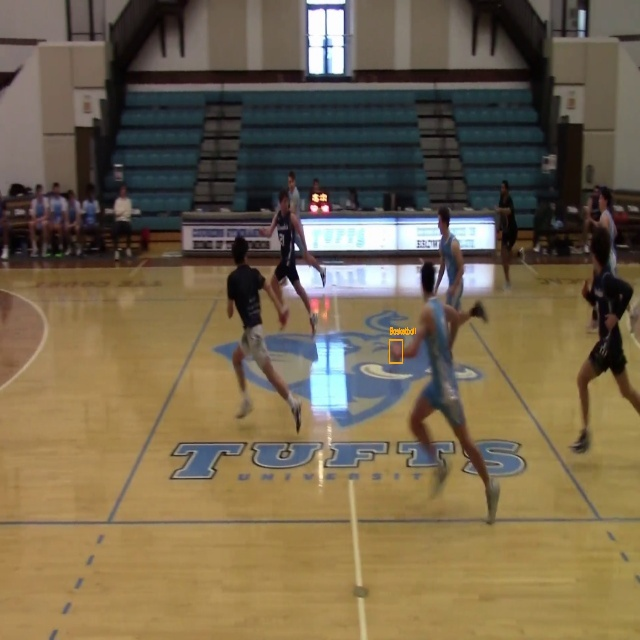Basketball: (389, 340, 403, 363)
